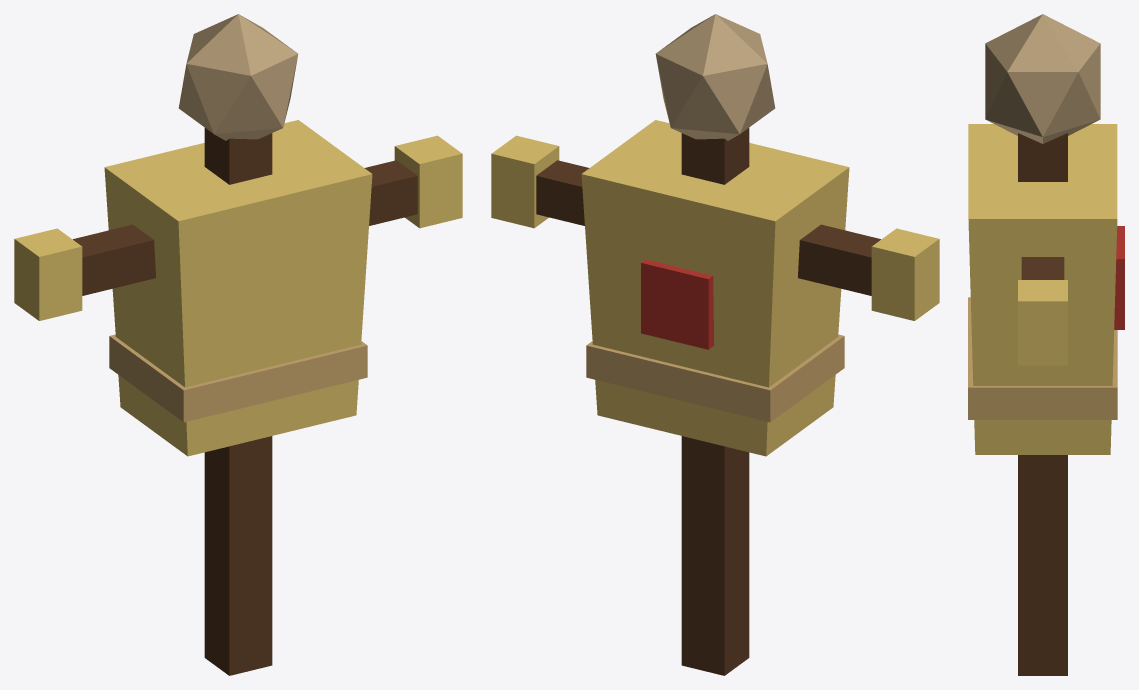
The model's file is PR_StrawDummy.fbx.
The picture shows the model from 3 angles, left to right: view 1: azimuth 30°, elevation 25°; view 2: azimuth 150°, elevation 25°; view 3: azimuth 270°, elevation 25°; orthographic projection.
Visible parts, largest first — view 1: PR_StrawDummy; view 2: PR_StrawDummy; view 3: PR_StrawDummy.
Boxes of the visible parts, x1,y1,x2,y2 form: PR_StrawDummy: (14,14,462,675); PR_StrawDummy: (491,14,939,675); PR_StrawDummy: (968,14,1124,675).
Bounding box in the file's own units: 1.38 × 0.44 × 2.02.
